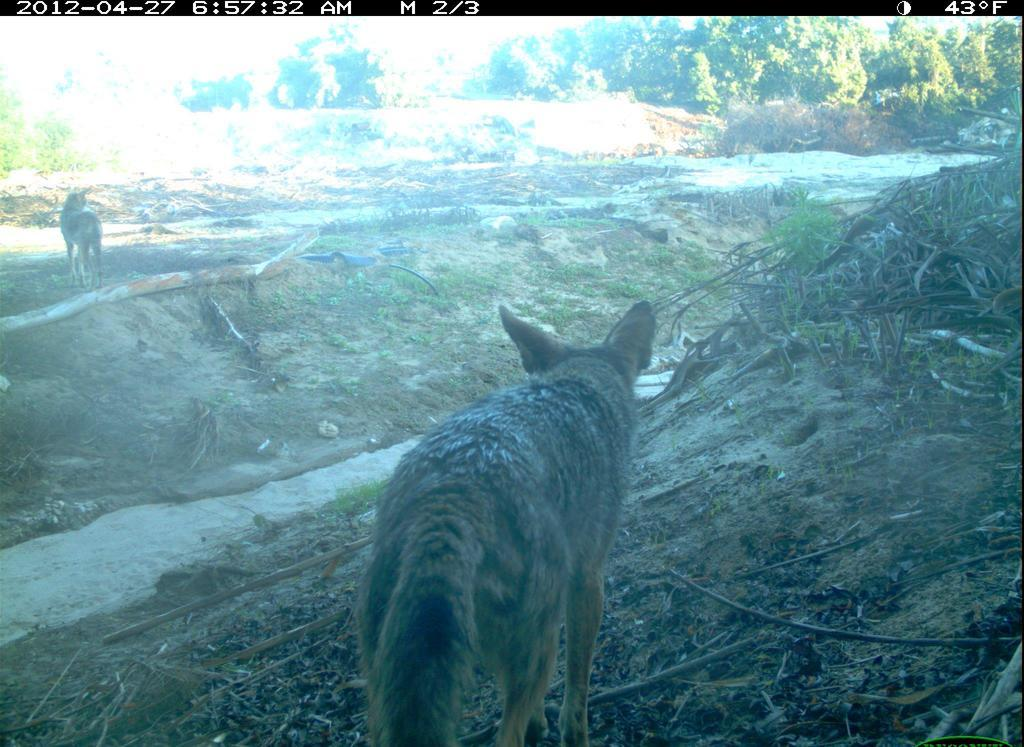coyote: (333, 285, 671, 747), (40, 184, 135, 318)
